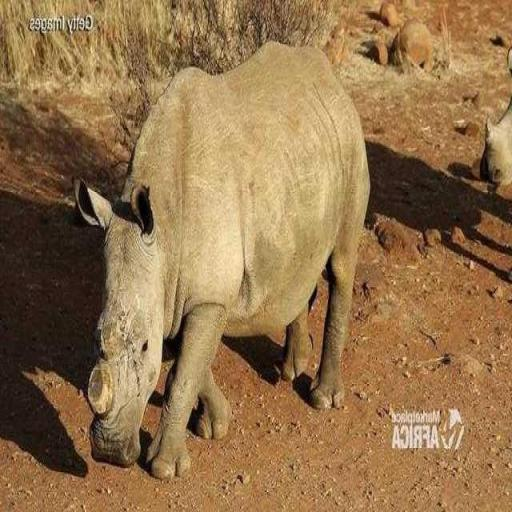Rhino: (72, 38, 371, 480)
